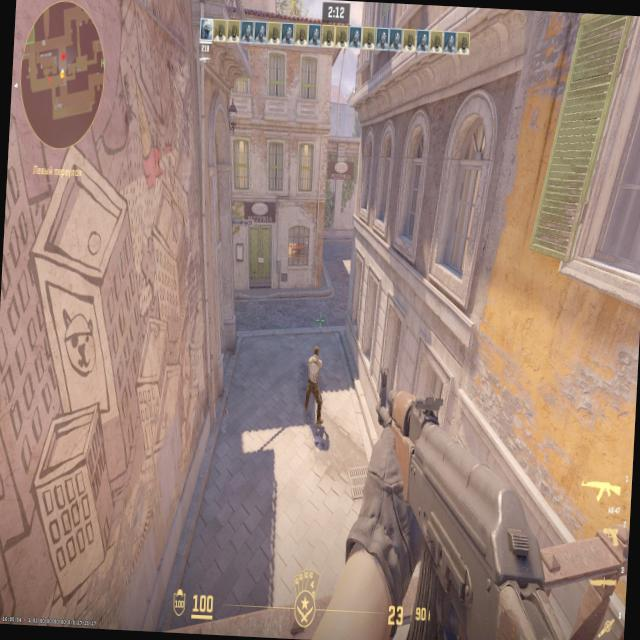T: (302, 346, 322, 416)
T_heat: (313, 352, 319, 366)
